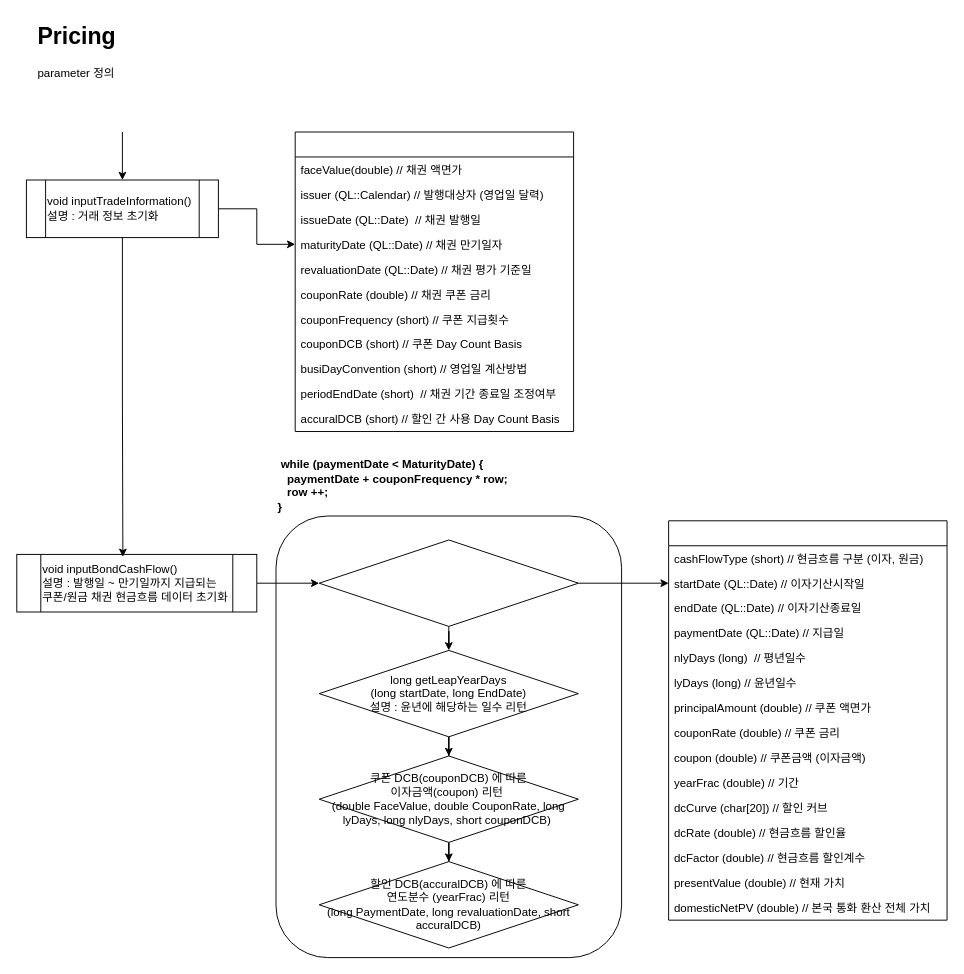
Image size: 964x974. Some labels were removed from this diagram. Here are the shapes that lost their labels. From the top down, the box of each, then its label:
(294, 131, 574, 432): TradeInformation
(318, 539, 578, 626): long getDaysByDCB (long startDate, long EndDate, short DCB) 설명 : DCB에 따른 일수 리턴
(668, 520, 947, 920): BondCashFlow
